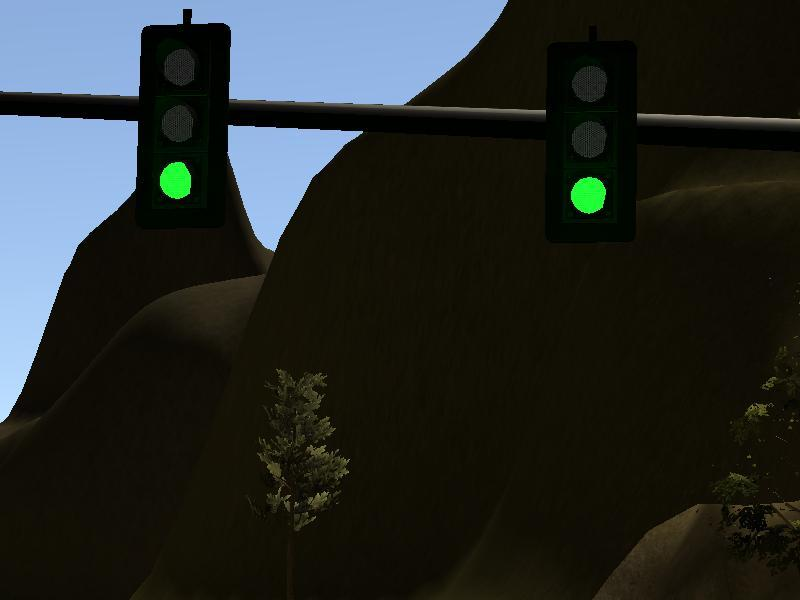Green: (543, 39, 637, 241), (140, 24, 228, 229)
